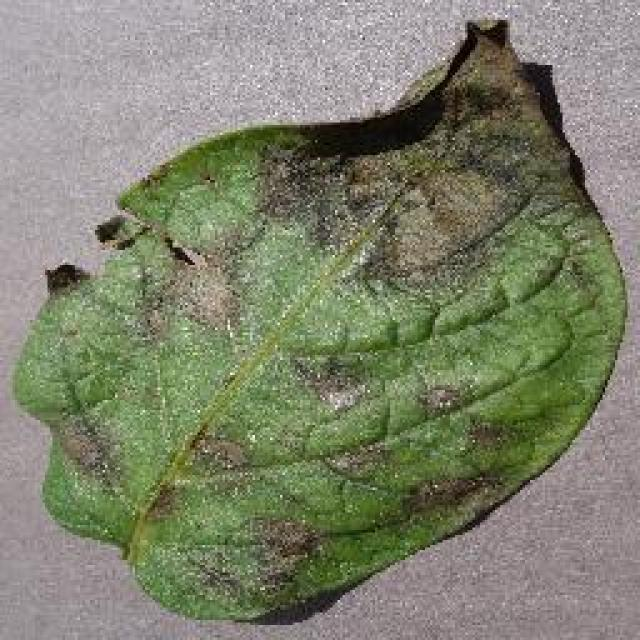late_blight: (8, 13, 630, 625)
